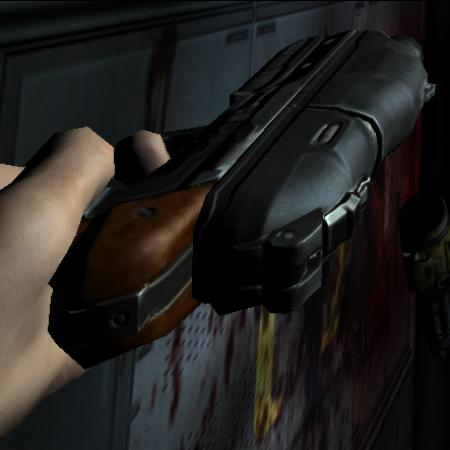Pistol: (40, 7, 434, 379)
